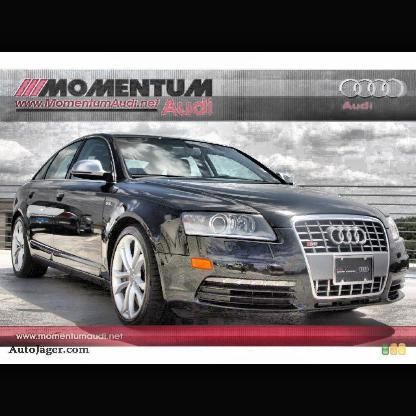Audi S6 Sedan 2011: (12, 134, 408, 326)
